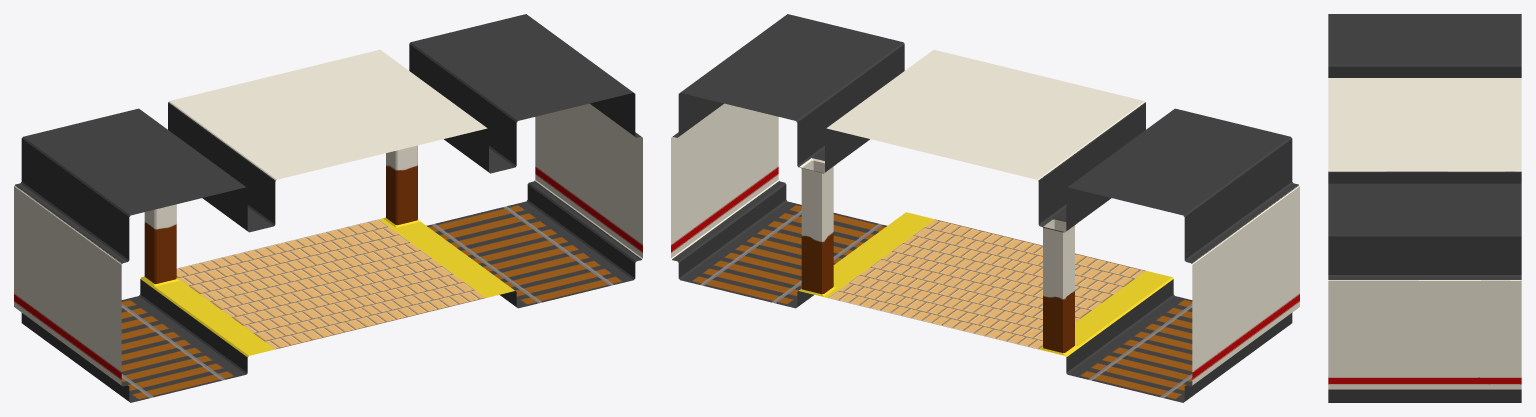
Rendered from Subway.fbx.
The picture shows the model from 3 angles, left to right: view 1: azimuth 30°, elevation 25°; view 2: azimuth 150°, elevation 25°; view 3: azimuth 270°, elevation 25°; orthographic projection. The views are drawn at different scales.
Parts seen in each view (by area): view 1: Subway Station; view 2: Subway Station; view 3: Subway Station.
Part boxes in pixels (left/top/right/bottom): Subway Station: left=14, top=14, right=642, bottom=402; Subway Station: left=671, top=14, right=1299, bottom=402; Subway Station: left=1328, top=14, right=1521, bottom=402.
Bounding box in the file's own units: 2798 × 961 × 1000.
Materials: 1 (1 with a texture image).
